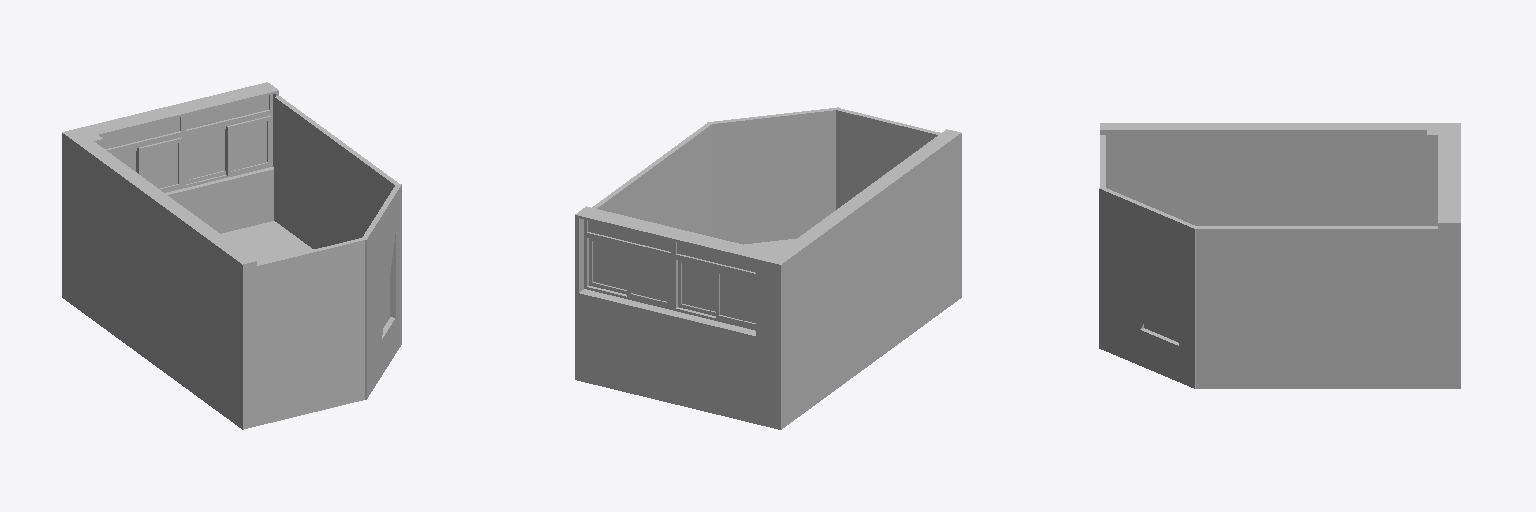
The picture shows the model from 3 angles: view 1: azimuth 30°, elevation 25°; view 2: azimuth 150°, elevation 25°; view 3: azimuth 270°, elevation 25°; orthographic projection.
Visible parts, largest first — view 1: Mesh2 Group2 Model, Mesh4 Group4 Model, Mesh3 Group3 Model, Mesh1 Group1 Model, Mesh24 Group13 Model, Mesh5 Group5 Model, Mesh22 Glazing7 Window_Sliding_Casement_4_3 Window_Sliding_2_2 G, Mesh19 Glazing5 Window_Sliding_Casement_4_2 Window_Sliding_2_2 G, Mesh15 Glazing3 Window_Sliding_Casement_4_1 Window_Sliding_2_1 G, Mesh9 Group12 Group10 Group6 Model, Mesh7 Group9 Group7 Group6 Model, Mesh23 Window_Sliding_Casement_4_3 Window_Sliding_2_2 Group6 Mod (+2 smaller); view 2: Mesh2 Group2 Model, Mesh24 Group13 Model, Mesh3 Group3 Model, Mesh4 Group4 Model, Mesh18 Glazing4 Window_Sliding_Casement_4_2 Window_Sliding_2_2 G, Mesh11 Glazing Window_Sliding_Casement_4 Window_Sliding_2_1 Grou, Mesh14 Glazing2 Window_Sliding_Casement_4_1 Window_Sliding_2_1 G, Mesh21 Glazing6 Window_Sliding_Casement_4_3 Window_Sliding_2_2 G, Mesh9 Group12 Group10 Group6 Model, Mesh7 Group9 Group7 Group6 Model, Mesh17 Window_Sliding_Main_Frame_2_1 Window_Sliding_2_2 Group6 M, Mesh10 Window_Sliding_Main_Frame_2 Window_Sliding_2_1 Group6 Mod (+2 smaller); view 3: Mesh2 Group2 Model, Mesh3 Group3 Model, Mesh1 Group1 Model, Mesh24 Group13 Model, Mesh5 Group5 Model.
Boxes of the visible parts, box(x1,y1,x2,y2) form: Mesh2 Group2 Model: box(62, 82, 278, 429); Mesh4 Group4 Model: box(257, 238, 364, 389); Mesh3 Group3 Model: box(274, 96, 398, 248); Mesh1 Group1 Model: box(221, 221, 401, 425); Mesh24 Group13 Model: box(362, 184, 401, 363); Mesh5 Group5 Model: box(65, 130, 103, 273); Mesh22 Glazing7 Window_Sliding_Casement_4_3 Window_Sliding_2_2 G: box(231, 121, 266, 170); Mesh19 Glazing5 Window_Sliding_Casement_4_2 Window_Sliding_2_2 G: box(189, 130, 224, 178); Mesh15 Glazing3 Window_Sliding_Casement_4_1 Window_Sliding_2_1 G: box(142, 143, 177, 188); Mesh9 Group12 Group10 Group6 Model: box(186, 96, 268, 129); Mesh7 Group9 Group7 Group6 Model: box(101, 117, 179, 148); Mesh23 Window_Sliding_Casement_4_3 Window_Sliding_2_2 Group6 Mod: box(226, 116, 270, 175); Mesh2 Group2 Model: box(575, 129, 961, 429); Mesh24 Group13 Model: box(707, 107, 839, 244); Mesh3 Group3 Model: box(592, 123, 711, 236); Mesh4 Group4 Model: box(836, 108, 940, 209); Mesh18 Glazing4 Window_Sliding_Casement_4_2 Window_Sliding_2_2 G: box(631, 252, 666, 301); Mesh11 Glazing Window_Sliding_Casement_4 Window_Sliding_2_1 Grou: box(720, 274, 755, 322); Mesh14 Glazing2 Window_Sliding_Casement_4_1 Window_Sliding_2_1 G: box(682, 263, 715, 311); Mesh21 Glazing6 Window_Sliding_Casement_4_3 Window_Sliding_2_2 G: box(593, 241, 626, 289); Mesh9 Group12 Group10 Group6 Model: box(588, 221, 670, 251); Mesh7 Group9 Group7 Group6 Model: box(677, 242, 755, 272); Mesh17 Window_Sliding_Main_Frame_2_1 Window_Sliding_2_2 Group6 M: box(584, 235, 673, 309); Mesh10 Window_Sliding_Main_Frame_2 Window_Sliding_2_1 Group6 Mod: box(672, 256, 755, 330); Mesh2 Group2 Model: box(1100, 123, 1460, 388); Mesh3 Group3 Model: box(1196, 226, 1437, 351); Mesh1 Group1 Model: box(1099, 313, 1437, 388); Mesh24 Group13 Model: box(1099, 187, 1198, 352); Mesh5 Group5 Model: box(1427, 124, 1443, 225).
Size of the model in its own units: 4.2 by 3.2 by 6.37.